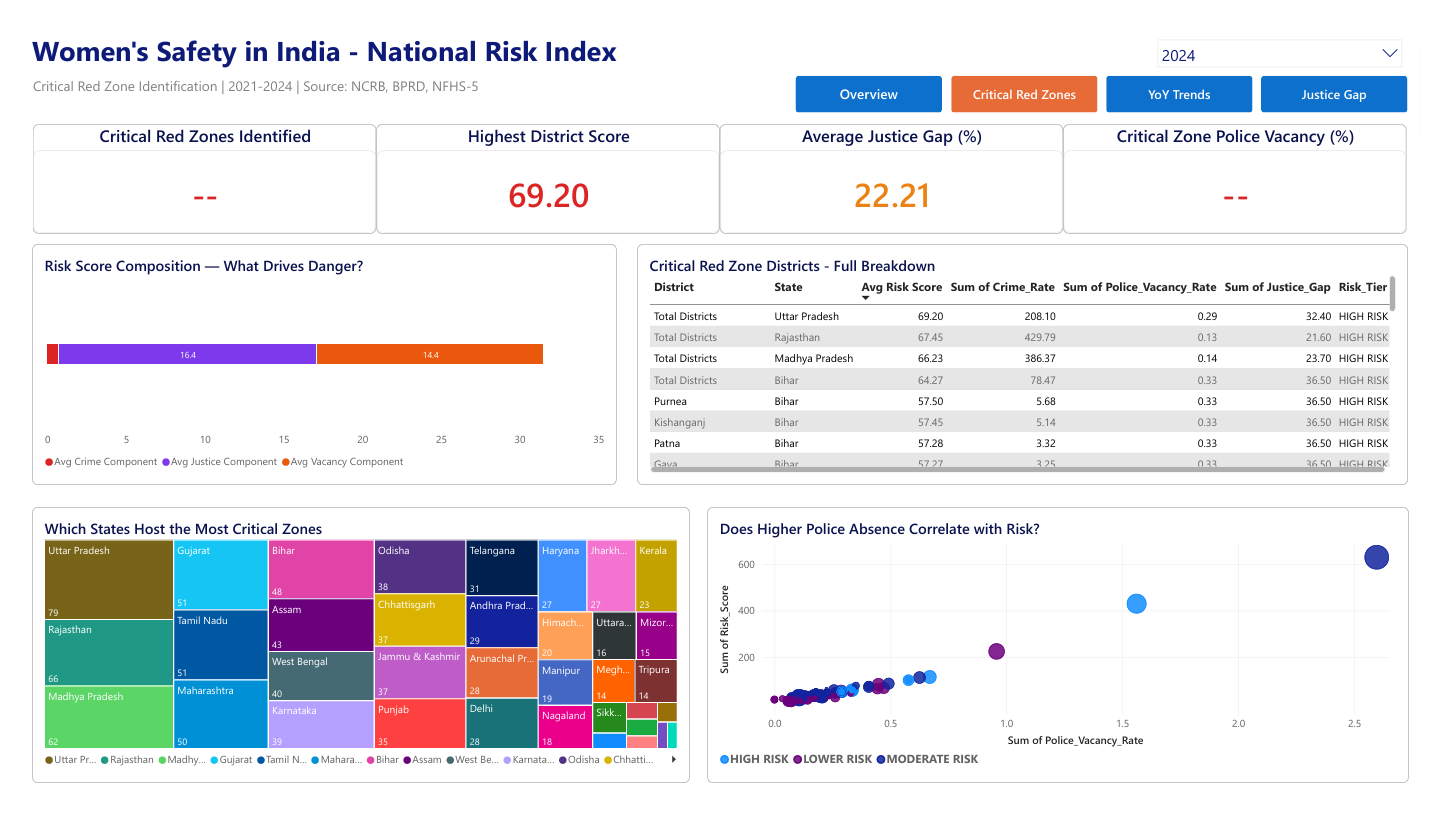

This screenshot's page, from the dashboard's own definition file:
{"tool":"powerbi","page":{"name":"Critical Red Zone Deep Dive","canvas":[1920,1080],"ordinal":1},"visuals":[{"type":"textbox","box":[20,20,1500,60],"z":0},{"type":"textbox","box":[21.4,80,877.1,44.3],"z":1000},{"type":"slicer","fields":{"Values":["master_risk_scores.Year"]},"box":[1550,20,350,80],"z":2000},{"type":"textbox","box":[20,710,580,370],"z":3000},{"type":"cardVisual","title":"Critical Red Zones Identified","fields":{"Data":["_Measures.Total Critical Zones"]},"box":[21,146,470,150],"z":4000},{"type":"cardVisual","title":"Highest District Score","fields":{"Data":["_Measures.Max Risk Score"]},"box":[491.4,145.7,470,150],"z":5000},{"type":"cardVisual","title":"Average Justice Gap (%)","fields":{"Data":["_Measures.Avg Justice Gap"]},"box":[961.4,145.7,470,150],"z":6000},{"type":"cardVisual","title":"Critical Zone Police Vacancy (%)","fields":{"Data":["_Measures.Police Vacancy in Critical Zones"]},"box":[1431.4,145.7,470,150],"z":7000},{"type":"barChart","title":"Risk Score Composition — What Drives Danger?","fields":{"Y":["_Measures.Avg Crime Component","_Measures.Avg Justice Component","_Measures.Avg Vacancy Component"]},"box":[20,310,800,330],"z":8000},{"type":"treemap","title":"Which States Host the Most Critical Zones","fields":{"Group":["master_risk_scores.State"],"Values":["CountNonNull(master_risk_scores.District)"]},"box":[20,670,900,377.5],"z":9000},{"type":"tableEx","title":"Critical Red Zone Districts - Full Breakdown","fields":{"Values":["master_risk_scores.District","master_risk_scores.State","_Measures.Avg Risk Score","Sum(master_risk_scores.Crime_Rate)","Sum(master_risk_scores.Police_Vacancy_Rate)","Sum(master_risk_scores.Justice_Gap)","master_risk_scores.Risk_Tier"]},"box":[847.5,310,1055,330],"z":10000},{"type":"scatterChart","title":"Does Higher Police Absence Correlate with Risk?","fields":{"Category":["master_risk_scores.District"],"Series":["master_risk_scores.Risk_Tier"],"Size":["Sum(master_risk_scores.Pop_2024_Est)"],"X":["Sum(master_risk_scores.Police_Vacancy_Rate)"],"Y":["Sum(master_risk_scores.Risk_Score)"]},"box":[944,670,960,378],"z":11000},{"type":"actionButton","box":[1065,80,200,50],"z":11001},{"type":"actionButton","box":[1278,80,200,50],"z":11002},{"type":"actionButton","box":[1490,80,200,50],"z":11003},{"type":"actionButton","box":[1702,80,200,50],"z":11004}]}

Visuals, with their boxes in screenshot pixels (x1, y1, x2, y2), scaled from the page's 1920x1080 canvas onto the 1435x822 screenshot:
textbox: <box>15,15,1136,61</box>
textbox: <box>16,61,672,95</box>
slicer - master_risk_scores.Year: <box>1158,15,1420,76</box>
textbox: <box>15,540,448,821</box>
"Critical Red Zones Identified" cardVisual: <box>16,111,367,225</box>
"Highest District Score" cardVisual: <box>367,111,719,225</box>
"Average Justice Gap (%)" cardVisual: <box>719,111,1070,225</box>
"Critical Zone Police Vacancy (%)" cardVisual: <box>1070,111,1421,225</box>
"Risk Score Composition — What Drives Danger?" barChart: <box>15,236,613,487</box>
"Which States Host the Most Critical Zones" treemap: <box>15,510,688,797</box>
"Critical Red Zone Districts - Full Breakdown" tableEx: <box>633,236,1422,487</box>
"Does Higher Police Absence Correlate with Risk?" scatterChart: <box>706,510,1423,798</box>
actionButton: <box>796,61,945,99</box>
actionButton: <box>955,61,1105,99</box>
actionButton: <box>1114,61,1263,99</box>
actionButton: <box>1272,61,1422,99</box>
